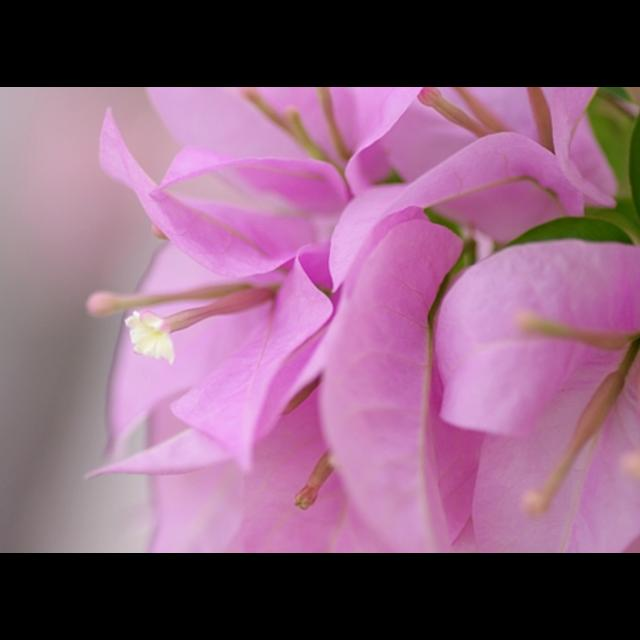Flower: (74, 88, 638, 552), (440, 244, 638, 552)
